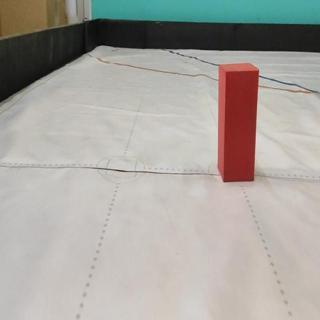redbox: (218, 63, 260, 184)
